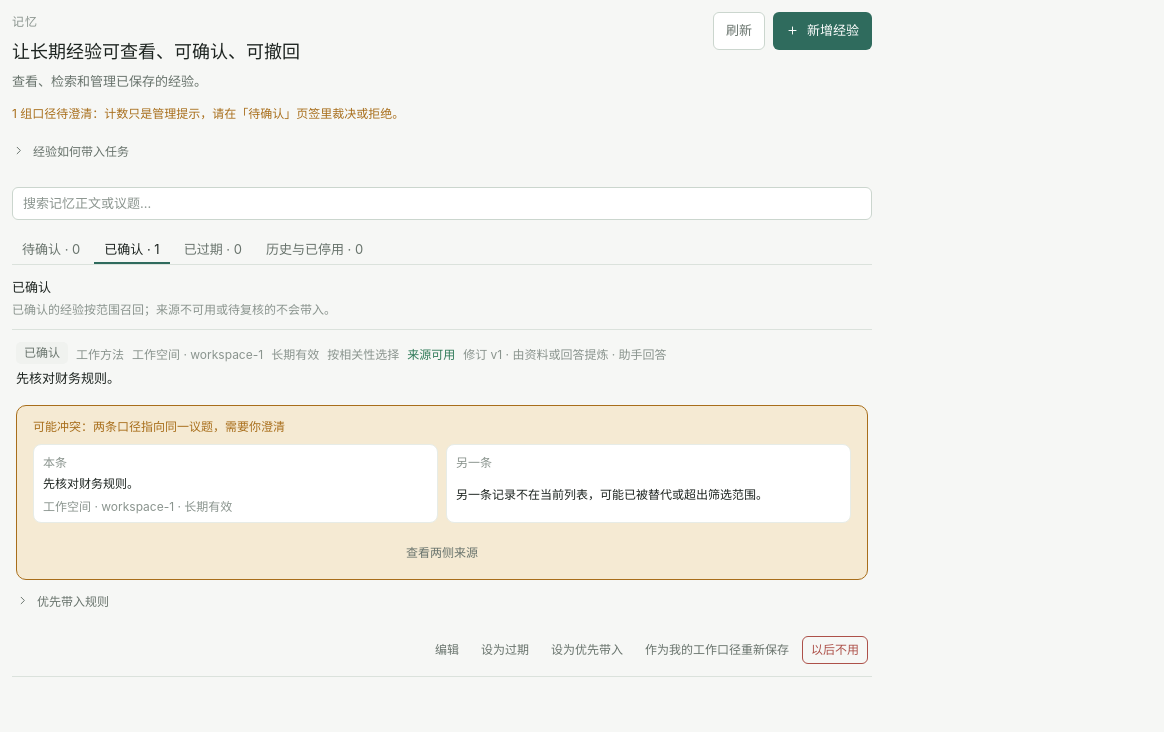
Scenario: MemoryPage 冲突来源回看（MI07） › 另一条越出可管理范围时不请求也不显示其正文
Click the button "查看两侧来源" at (442, 554), box [33, 540, 851, 568]
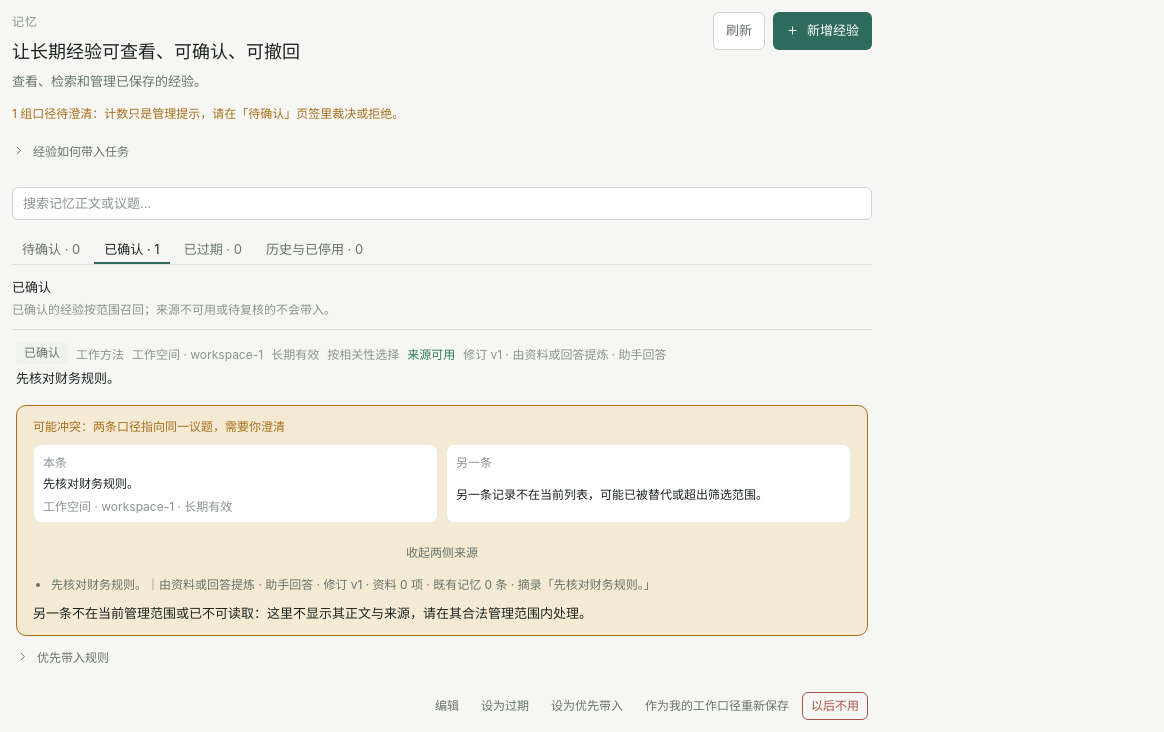
Expected: the text "另一条不在当前管理范围或已不可读取：这里不显示其正文与来源，请在其合法管理范围内处理。" is shown, [33, 605, 592, 621]
